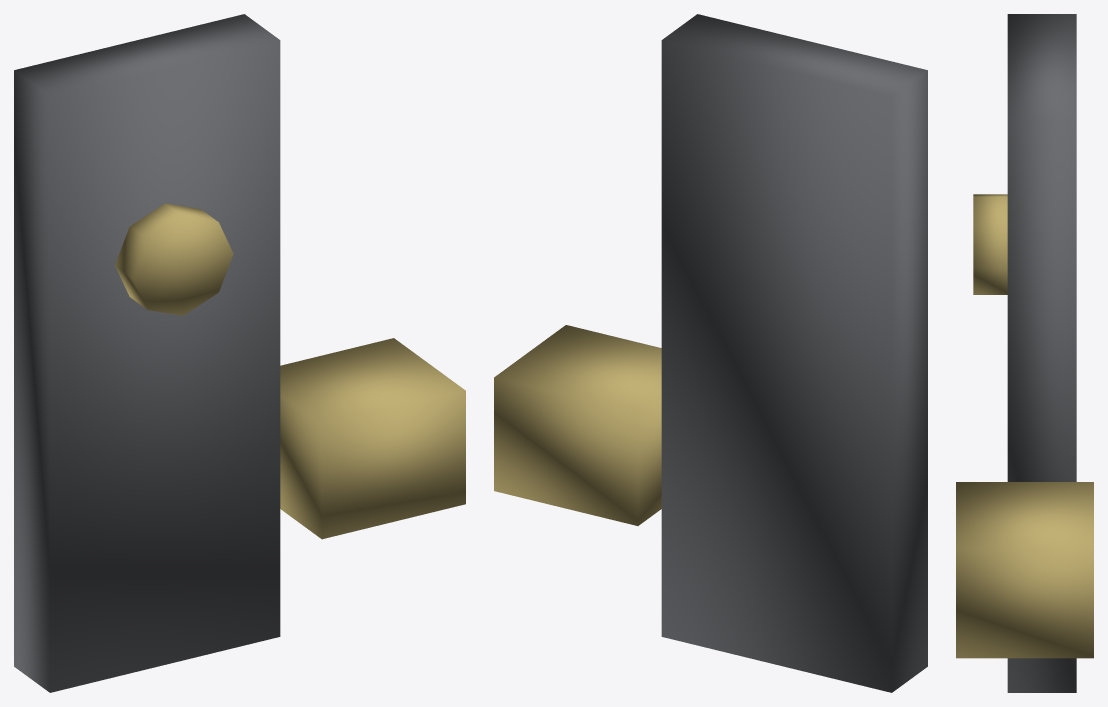
File: elevator_call_11.glb
3 views of the same model, side by side, from view 1: azimuth 30°, elevation 25°; view 2: azimuth 150°, elevation 25°; view 3: azimuth 270°, elevation 25° (orthographic). The views are drawn at different scales.
Parts seen in each view (by area): view 1: world; view 2: world; view 3: world.
Boxes of the visible parts, left/top/right/bottom form: world: left=14, top=14, right=465, bottom=692; world: left=494, top=14, right=927, bottom=692; world: left=956, top=14, right=1093, bottom=692.
Size of the model in its own units: 0.2808 by 0.4116 by 0.09.
